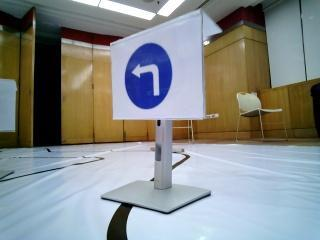left: (109, 42, 202, 120)
